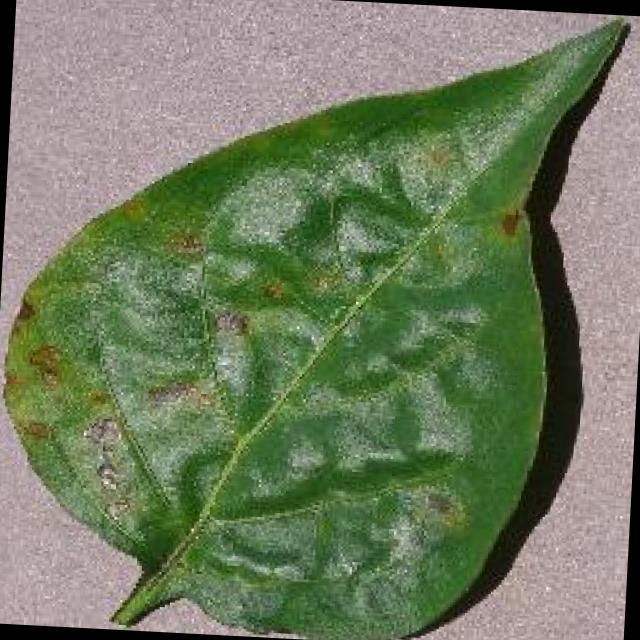Chilli_Bacterial_Spot: (0, 0, 634, 640), (74, 412, 145, 528), (140, 374, 220, 420), (416, 486, 468, 536), (21, 340, 66, 390), (160, 224, 208, 260), (115, 192, 152, 228), (418, 140, 454, 177), (16, 414, 54, 446), (492, 203, 524, 240), (256, 274, 290, 306)
